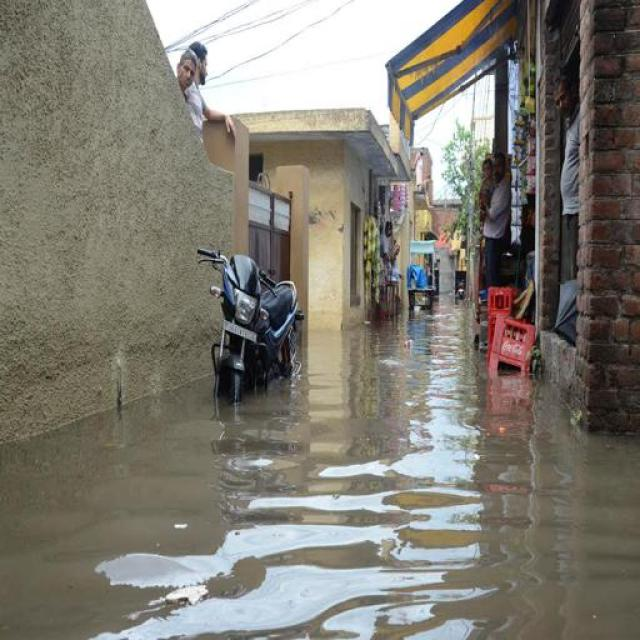puddle: (4, 451, 640, 640), (307, 327, 478, 497)
